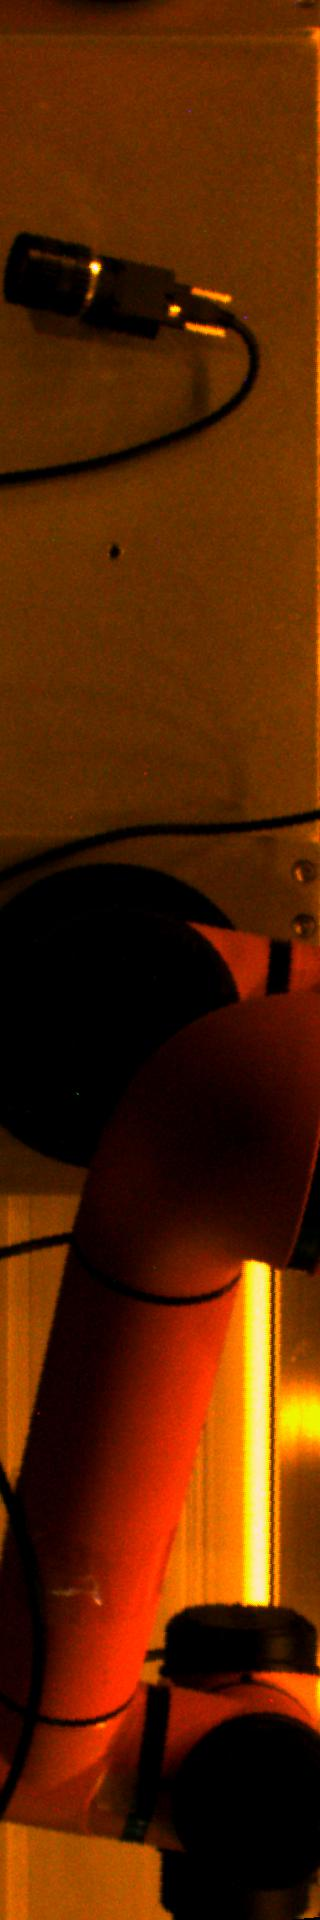keyPoint_2: (99, 539, 129, 569)
